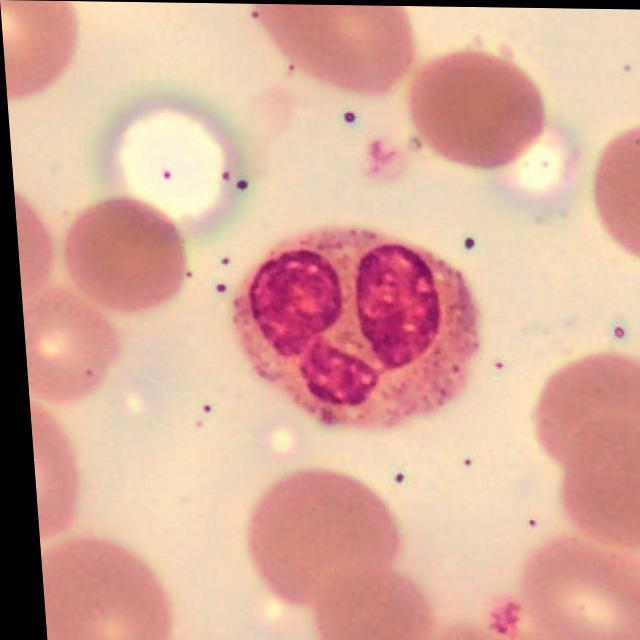Neutrofilo segmentado: (227, 226, 476, 430)
